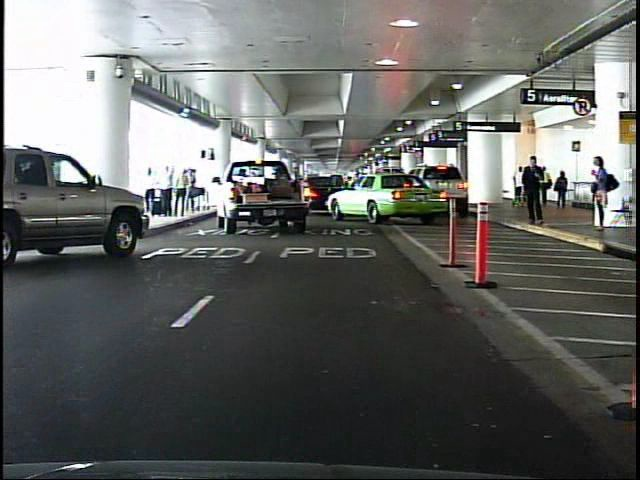person: (589, 153, 615, 236), (518, 151, 546, 228), (553, 169, 571, 210)
